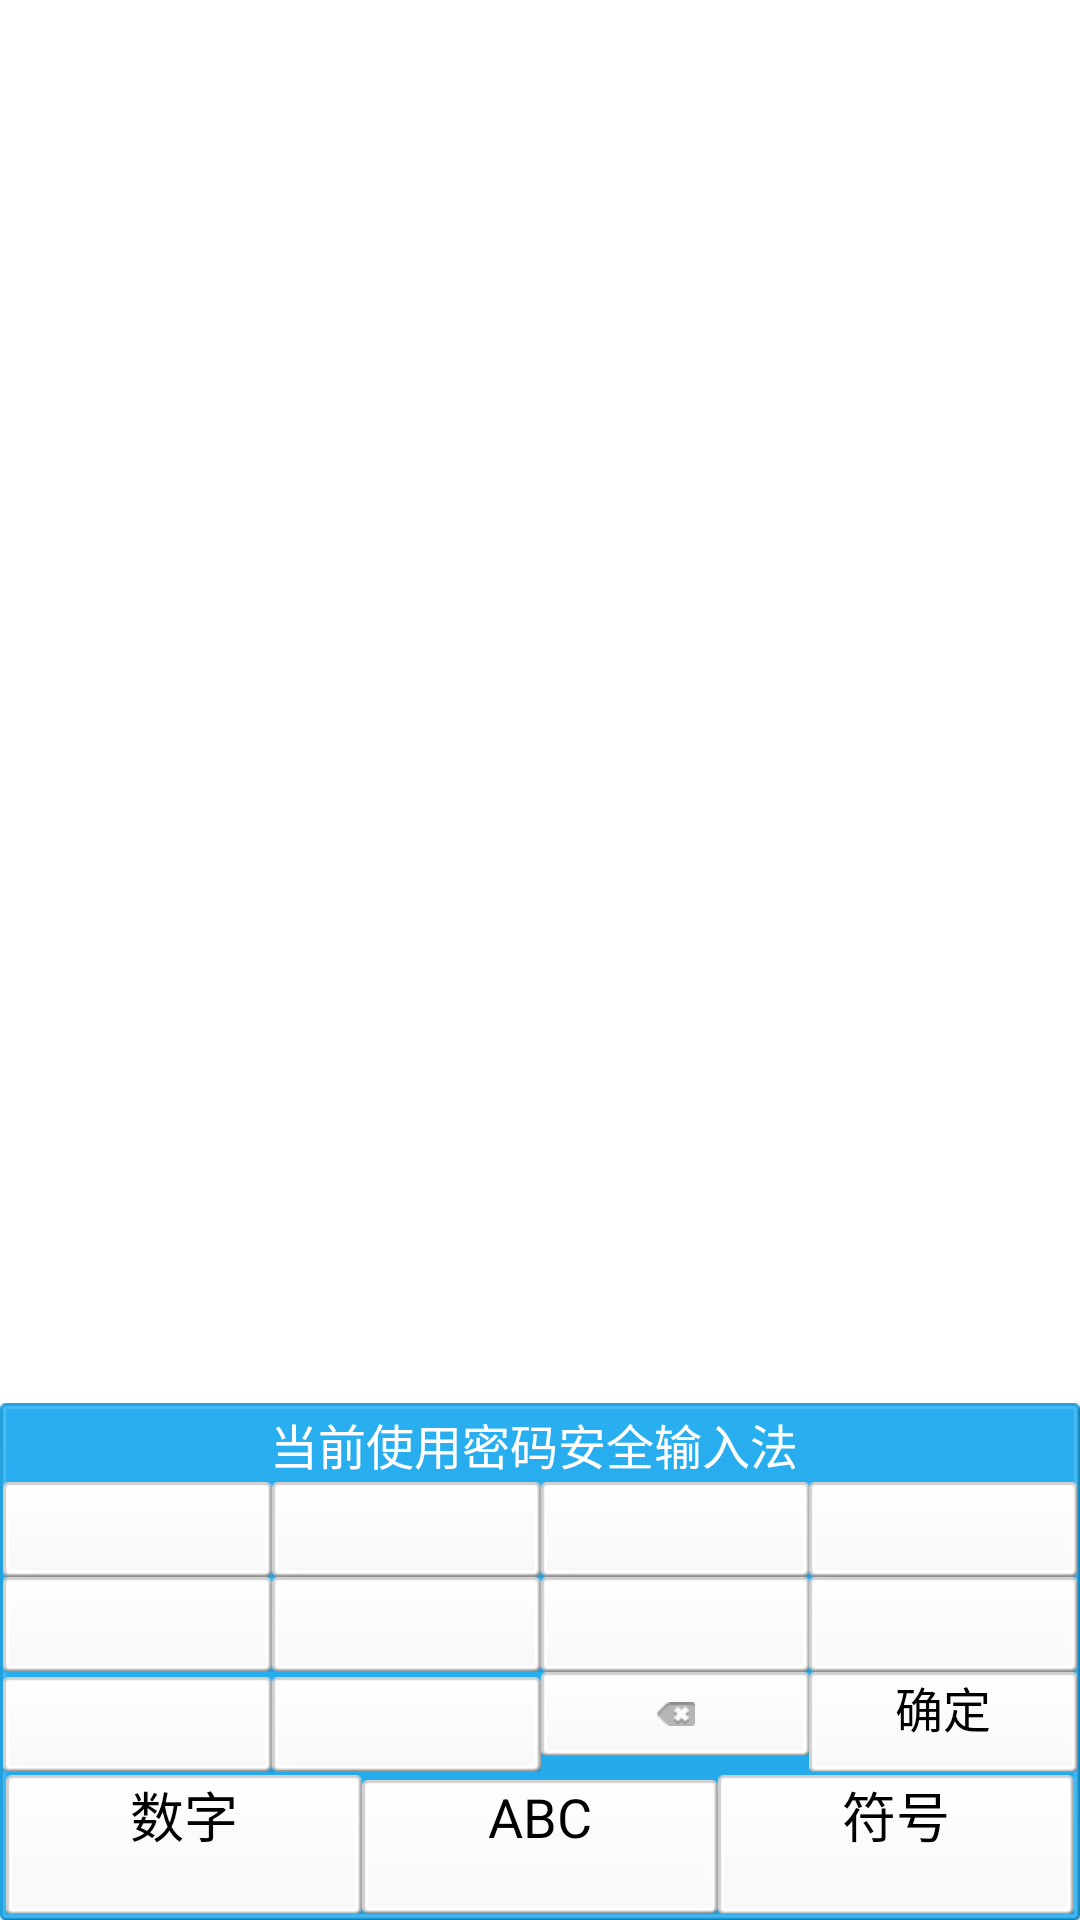

Where to tap for icons on this 1080w x 1920h app screen, as (x=x, y=y):
pass remove: (x=675, y=1714)
